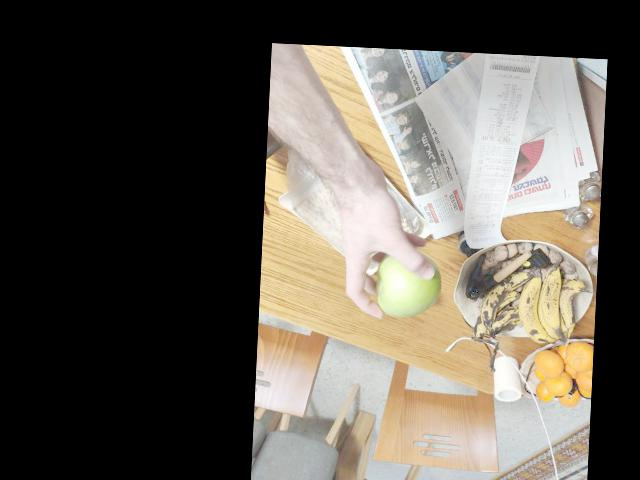apple: (374, 243, 439, 322)
